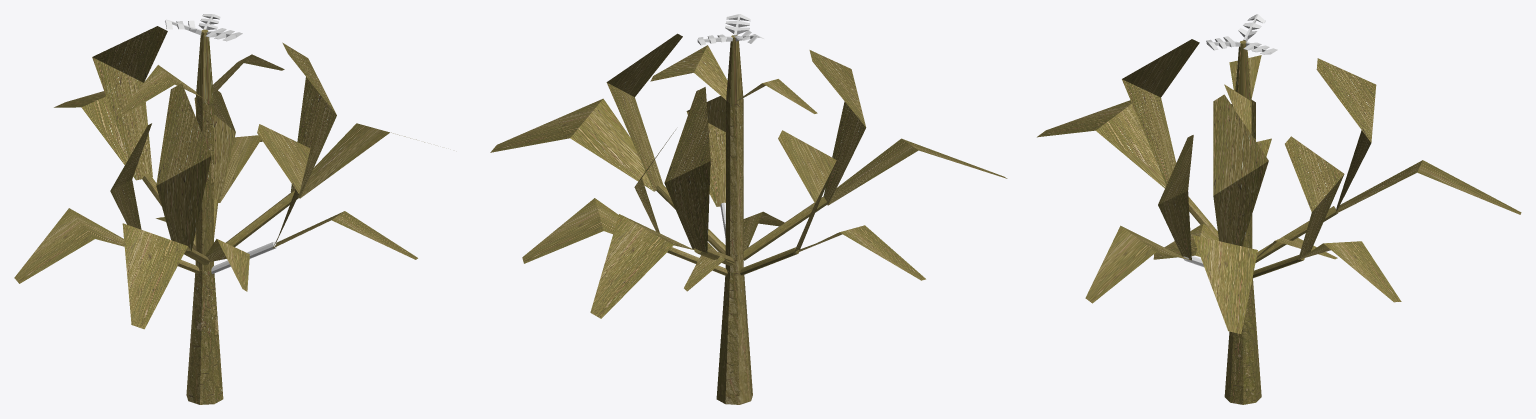
File: potato4.glb
3 views of the same model, side by side, from view 1: azimuth 30°, elevation 25°; view 2: azimuth 150°, elevation 25°; view 3: azimuth 270°, elevation 25° (orthographic). The views are drawn at different scales.
Parts seen in each view (by area): view 1: stem.001; view 2: stem.001; view 3: stem.001.
Part boxes in pixels (<box>): stem.001: <box>14,14,424,404</box>; stem.001: <box>490,14,1007,404</box>; stem.001: <box>1037,14,1521,404</box>.
Bounding box in the file's own units: 0.4202 × 0.347 × 0.4146.
Materials: 2 (1 with a texture image).
